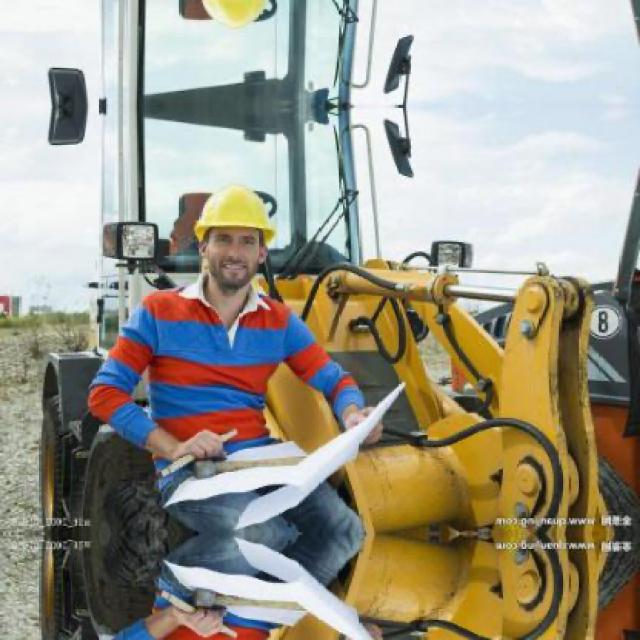helmet: (186, 175, 285, 298), (184, 0, 284, 39)
